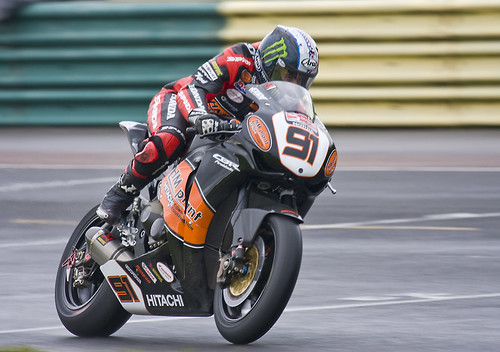helmet: (259, 16, 321, 82)
